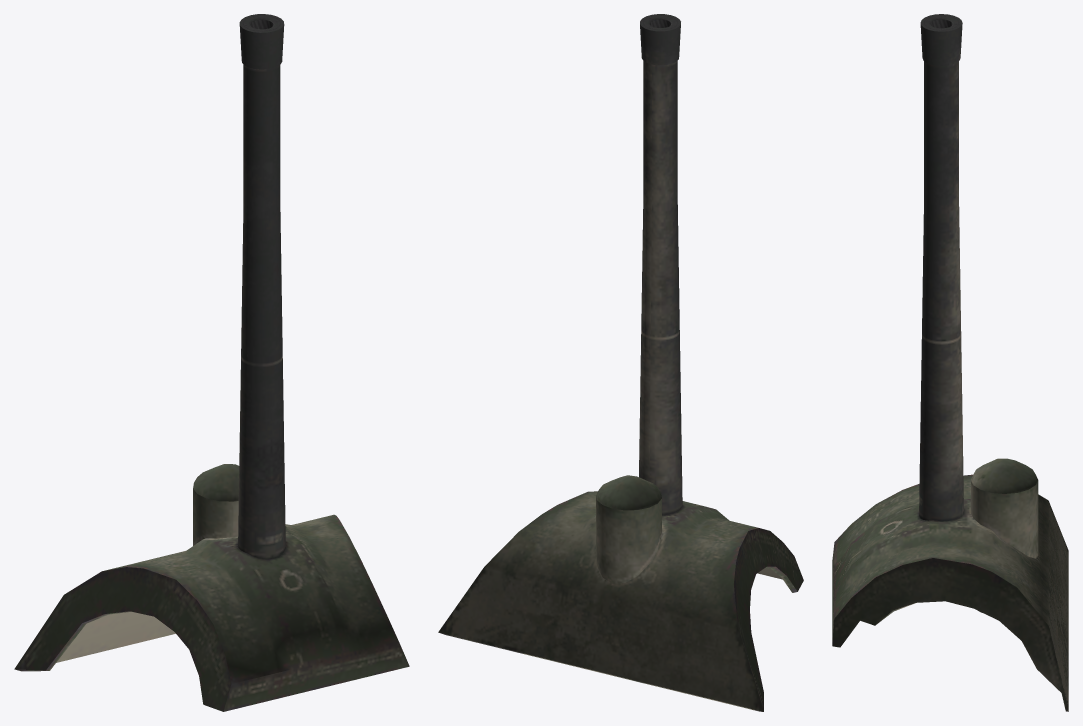
The model's file is Gun_02.glb.
3 renders of one model, left to right at view 1: azimuth 30°, elevation 25°; view 2: azimuth 150°, elevation 25°; view 3: azimuth 270°, elevation 25°, orthographic. The views are drawn at different scales.
Parts seen in each view (by area): view 1: set_0_group_0; view 2: set_0_group_0; view 3: set_0_group_0.
Part boxes in pixels (x1,y1,x2,y2): set_0_group_0: (14,14,409,711); set_0_group_0: (438,14,803,711); set_0_group_0: (832,14,1068,711).
Size of the model in its own units: 0.6588 by 1.17 by 0.4092.
Materials: 1 (1 with a texture image).
